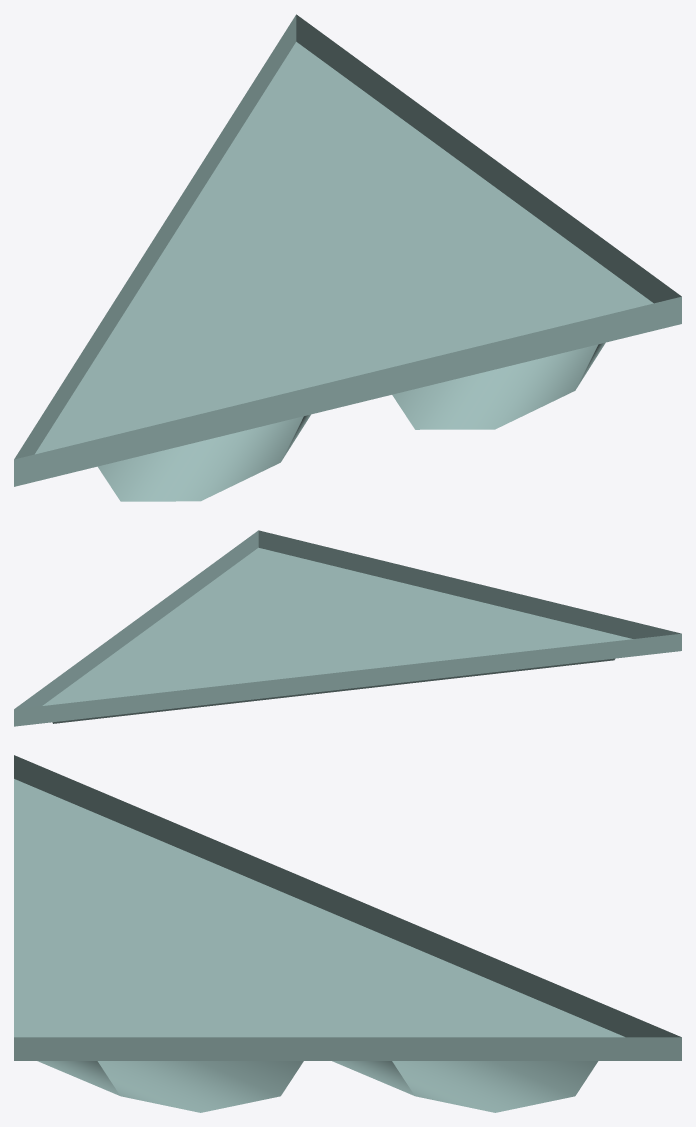
File: BCeilPipesTri.fbx
The picture shows the model from 3 angles, top to bottom: view 1: azimuth 30°, elevation 25°; view 2: azimuth 150°, elevation 25°; view 3: azimuth 270°, elevation 25°; orthographic projection. The views are drawn at different scales.
Visible parts, largest first — view 1: BCeilPipesTri; view 2: BCeilPipesTri; view 3: BCeilPipesTri.
Boxes of the visible parts, x1,y1,x2,y2 form: BCeilPipesTri: [14, 14, 681, 501]; BCeilPipesTri: [14, 530, 681, 726]; BCeilPipesTri: [14, 755, 681, 1112].
Bounding box in the file's own units: 400 × 50 × 400.
